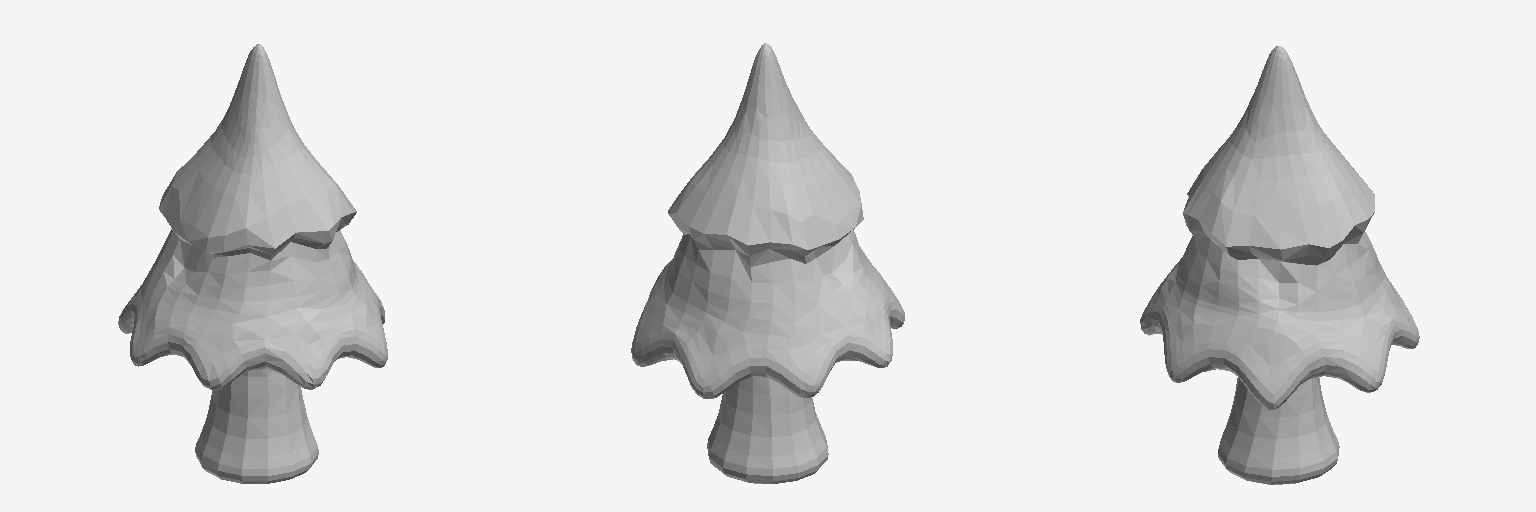
File: Pine-Tree-2.obj
The picture shows the model from 3 angles: view 1: azimuth 30°, elevation 25°; view 2: azimuth 150°, elevation 25°; view 3: azimuth 270°, elevation 25°; orthographic projection.
Parts seen in each view (by area): view 1: Group1, Group2; view 2: Group1, Group2; view 3: Group1, Group2.
Boxes of the visible parts, x1=… form: Group1: x1=118, y1=44, x2=387, y2=390; Group2: x1=195, y1=369, x2=318, y2=483; Group1: x1=631, y1=43, x2=904, y2=398; Group2: x1=707, y1=377, x2=828, y2=483; Group1: x1=1140, y1=46, x2=1419, y2=409; Group2: x1=1218, y1=377, x2=1339, y2=484.
Size of the model in its own units: 0.751 by 1.23 by 0.7388.